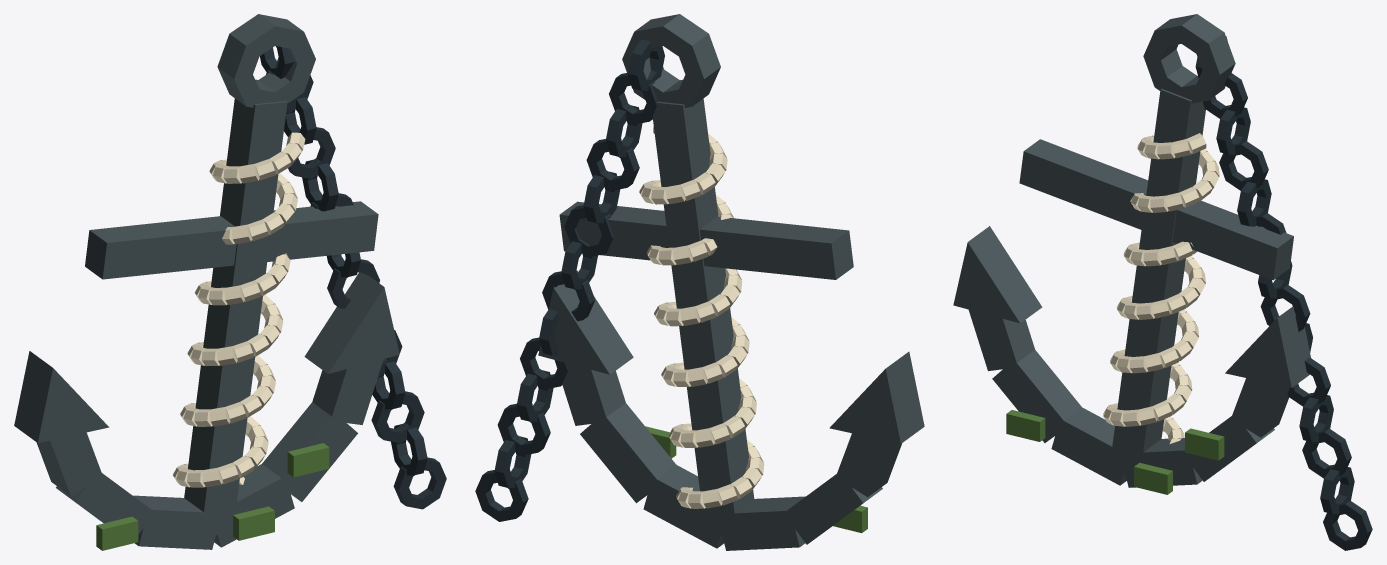
The model's file is ancient_anchor.glb.
3 renders of one model, left to right at view 1: azimuth 30°, elevation 25°; view 2: azimuth 150°, elevation 25°; view 3: azimuth 330°, elevation 25°, orthographic. The views are drawn at different scales.
Parts seen in each view (by area): view 1: body__metal.011, body__cream.009, body__dark.009, body__leaf.003; view 2: body__metal.011, body__dark.009, body__cream.009, body__leaf.003; view 3: body__metal.011, body__dark.009, body__cream.009, body__leaf.003.
Part boxes in pixels (<box>): body__metal.011: <box>14,14,399,549</box>; body__cream.009: <box>173,132,305,487</box>; body__dark.009: <box>260,46,446,509</box>; body__leaf.003: <box>96,443,329,550</box>; body__metal.011: <box>538,14,924,550</box>; body__dark.009: <box>475,39,664,521</box>; body__cream.009: <box>639,127,764,508</box>; body__leaf.003: <box>645,426,867,532</box>; body__metal.011: <box>953,14,1310,487</box>; body__dark.009: <box>1195,36,1372,550</box>; body__cream.009: <box>1103,133,1219,443</box>; body__leaf.003: <box>1006,410,1224,494</box>.
Size of the model in its own units: 2.49 by 2.98 by 0.4674.
